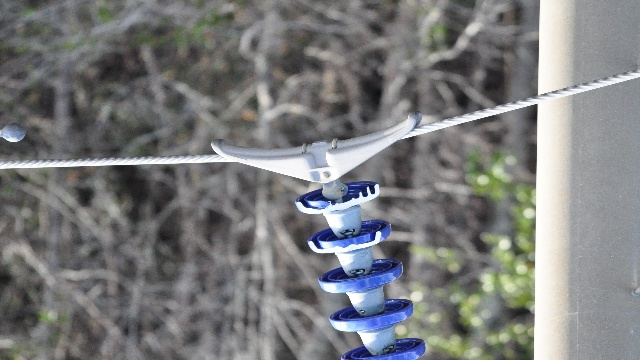broken_local: (296, 184, 386, 215), (305, 229, 386, 254)
insulator_unspecified: (298, 183, 425, 358)
